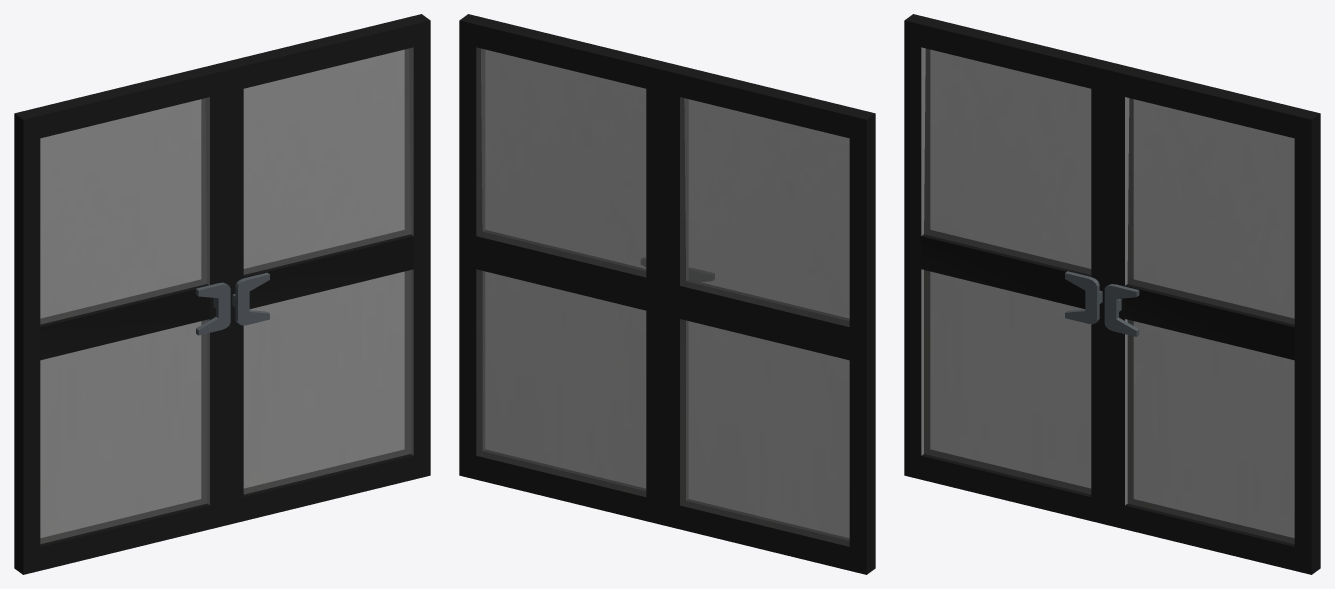
File: DoorsV7.glb
3 views of the same model, side by side, from view 1: azimuth 30°, elevation 25°; view 2: azimuth 150°, elevation 25°; view 3: azimuth 330°, elevation 25° (orthographic).
Visible parts, largest first — view 1: door.008; view 2: door.008; view 3: door.008.
Part boxes in pixels (<box>): door.008: <box>14,14,430,574</box>; door.008: <box>459,14,875,574</box>; door.008: <box>904,14,1320,574</box>.
Bounding box in the file's own units: 2 × 2.13 × 0.1372.
4 materials, 1 textured.
